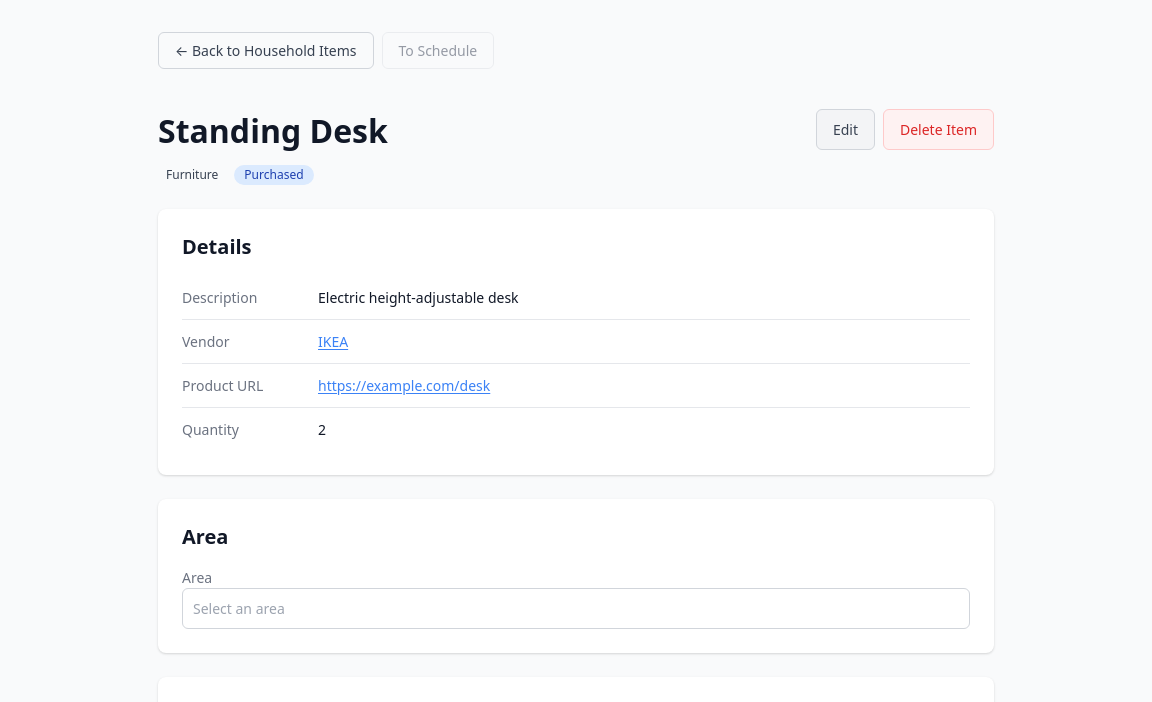
Test: HouseholdItemDetailPage › delete flow — success › shows "This action cannot be undone" warning in delete modal
Click the button "Delete Item".
click(938, 130)  # box [883, 109, 994, 150]
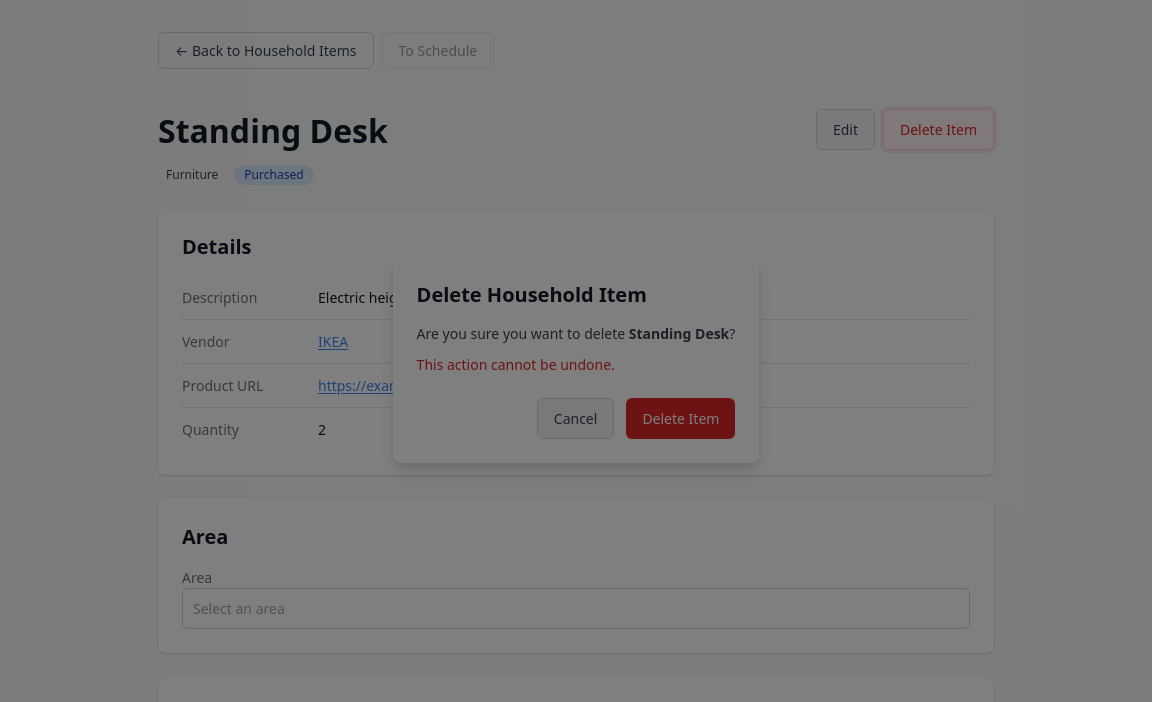
Expected: the text "This action cannot be undone." is shown, [417, 355, 615, 374]
